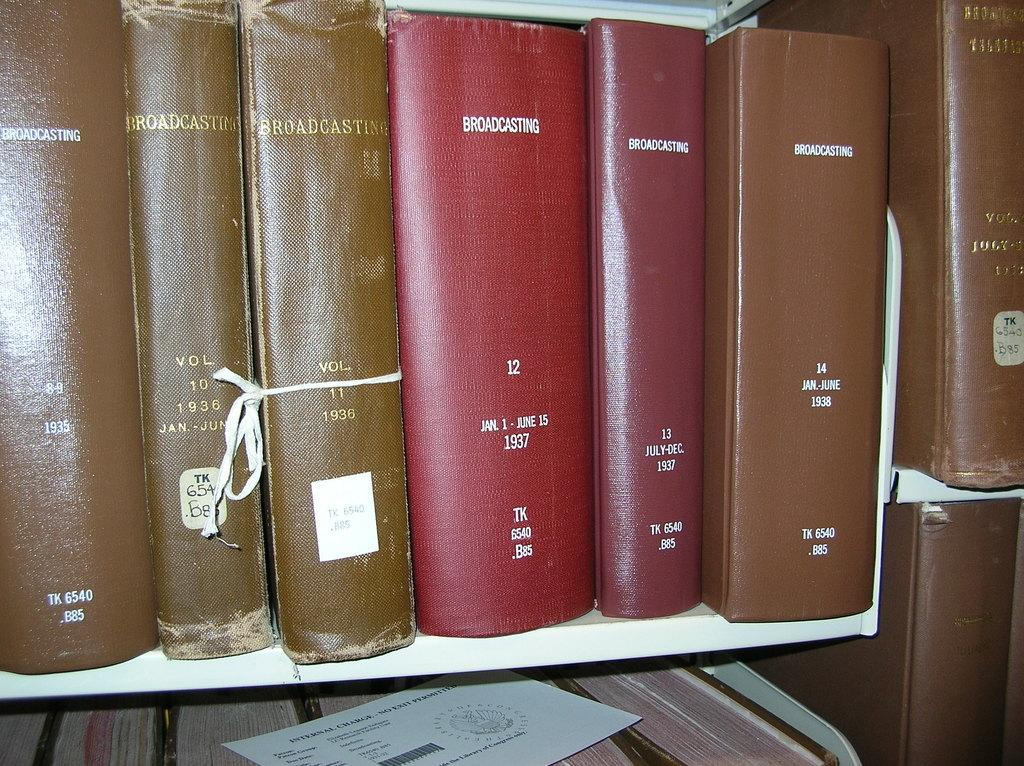Book: (383, 8, 602, 641), (749, 0, 1023, 493), (248, 0, 419, 669), (710, 28, 897, 623), (0, 3, 163, 675), (116, 0, 281, 660), (1, 666, 843, 765), (579, 14, 707, 621), (739, 504, 1018, 765)
